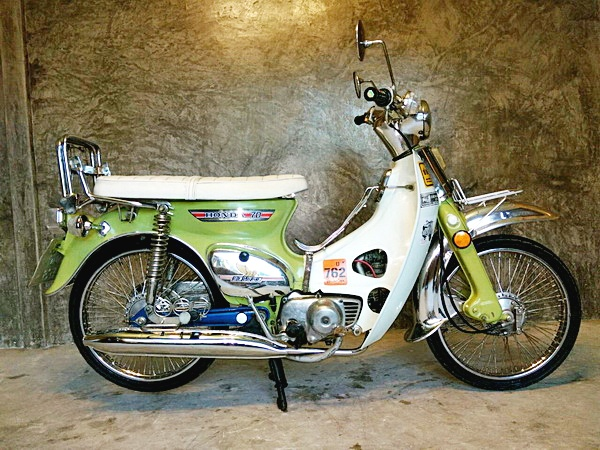motorcycle: (42, 20, 585, 393)
